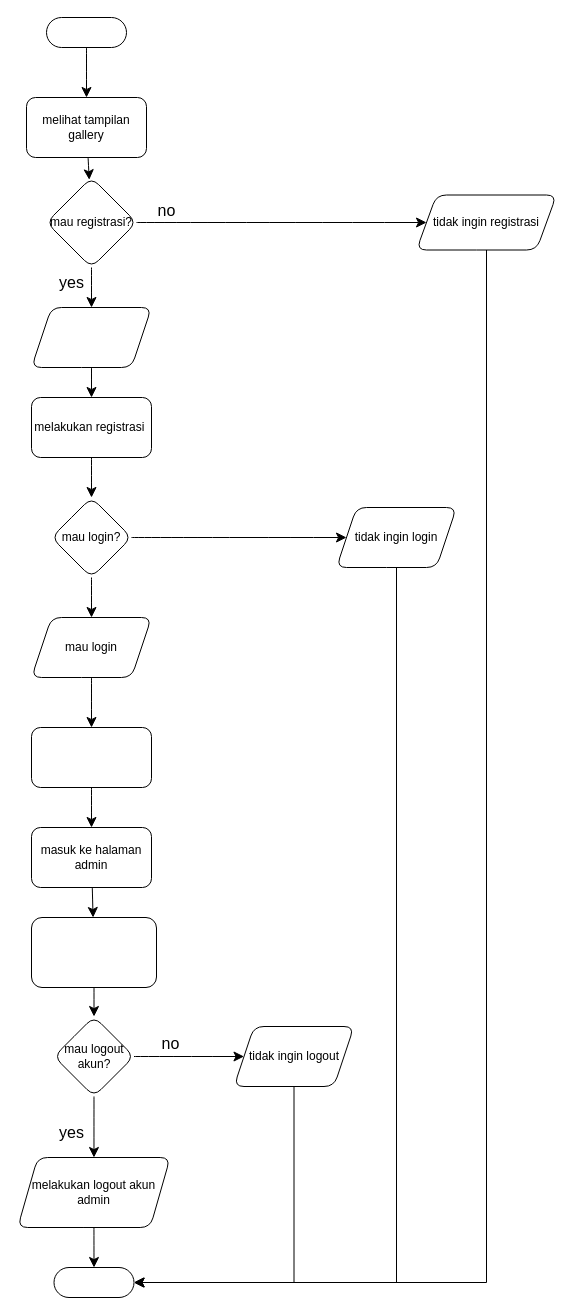
Some shapes in this 574 by 1315 pixel diagram are drawn without their labels. Here are the shapes that lost their labels. From the top down, the centre of each, then its label:
At (x=86, y=32): "mulai".
At (x=91, y=337): "ingin registrasi".
At (x=91, y=757): "login, memasukkan data yang di minta".
At (x=93, y=952): "menghapus, mengubah atau menambah data buku".
At (x=93, y=1282): "selesai".
